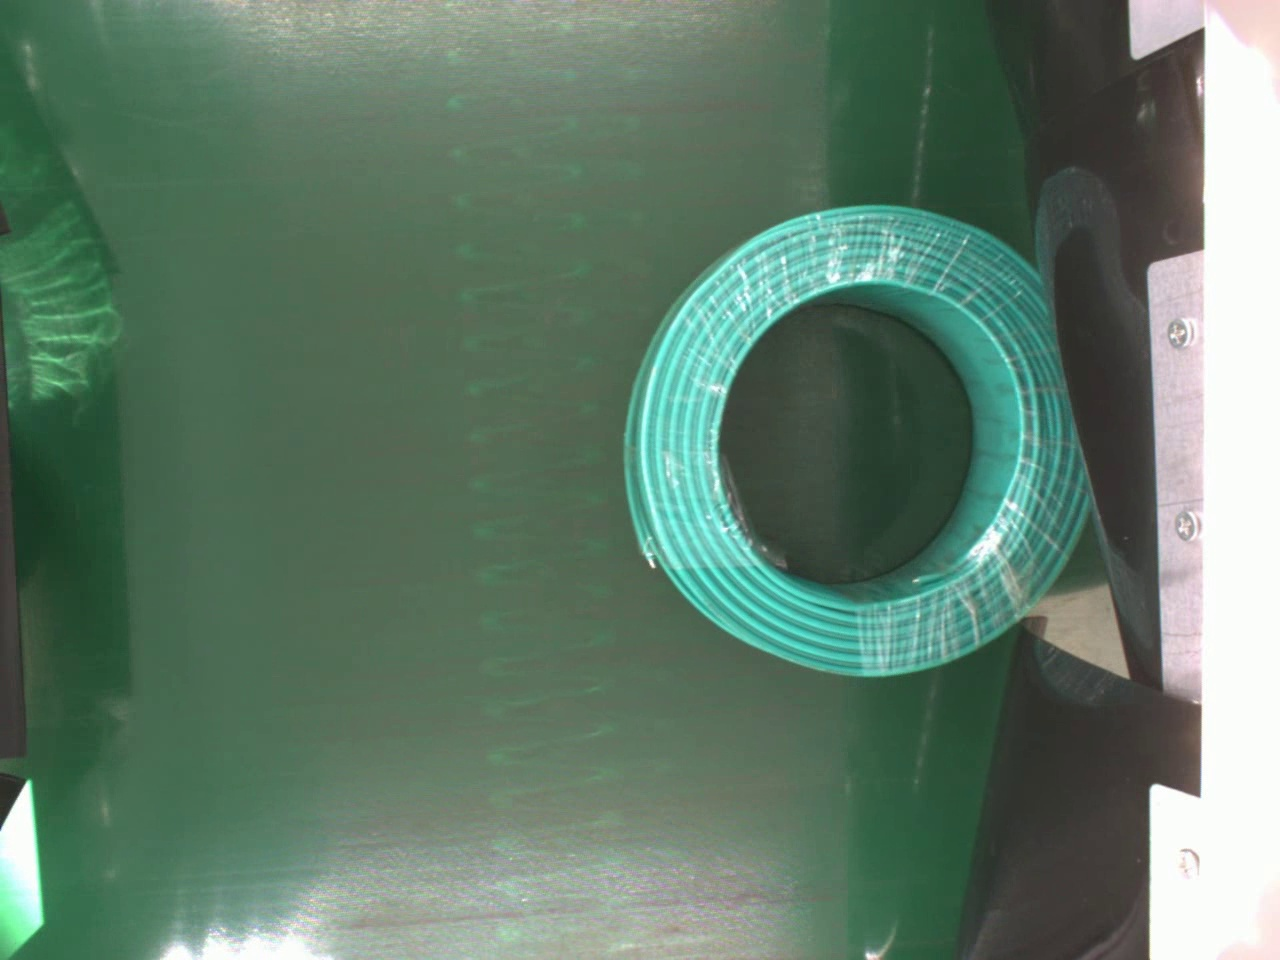green: (617, 202, 1098, 674)
